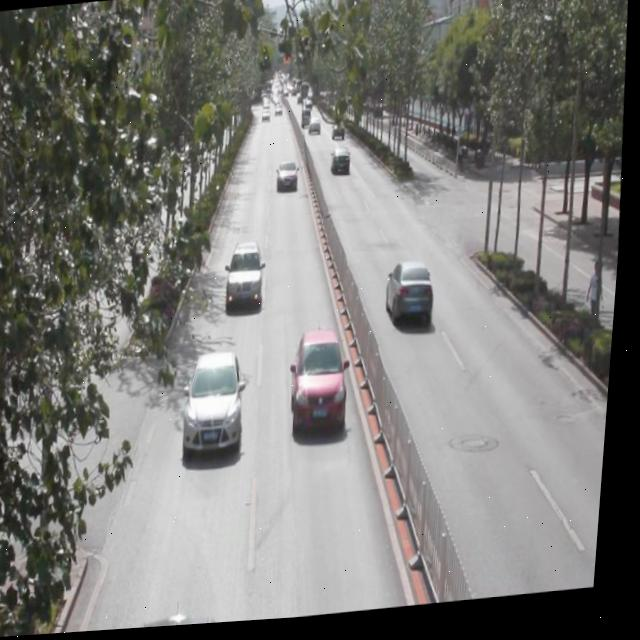car: (186, 348, 253, 457), (291, 331, 357, 436), (387, 262, 440, 333), (228, 241, 269, 314), (139, 614, 231, 631), (276, 162, 301, 196), (331, 146, 354, 178), (308, 117, 324, 139), (332, 122, 347, 145), (261, 109, 273, 125)
truck: (300, 110, 315, 131)
